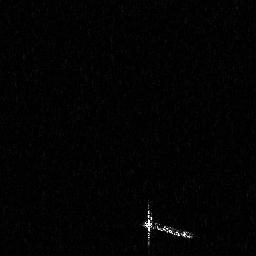ship: (140, 199, 197, 251)
